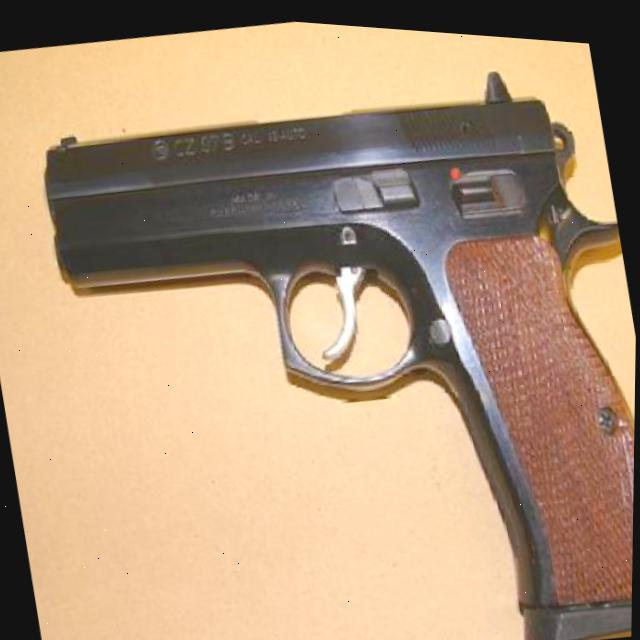gun: (25, 18, 640, 640)
